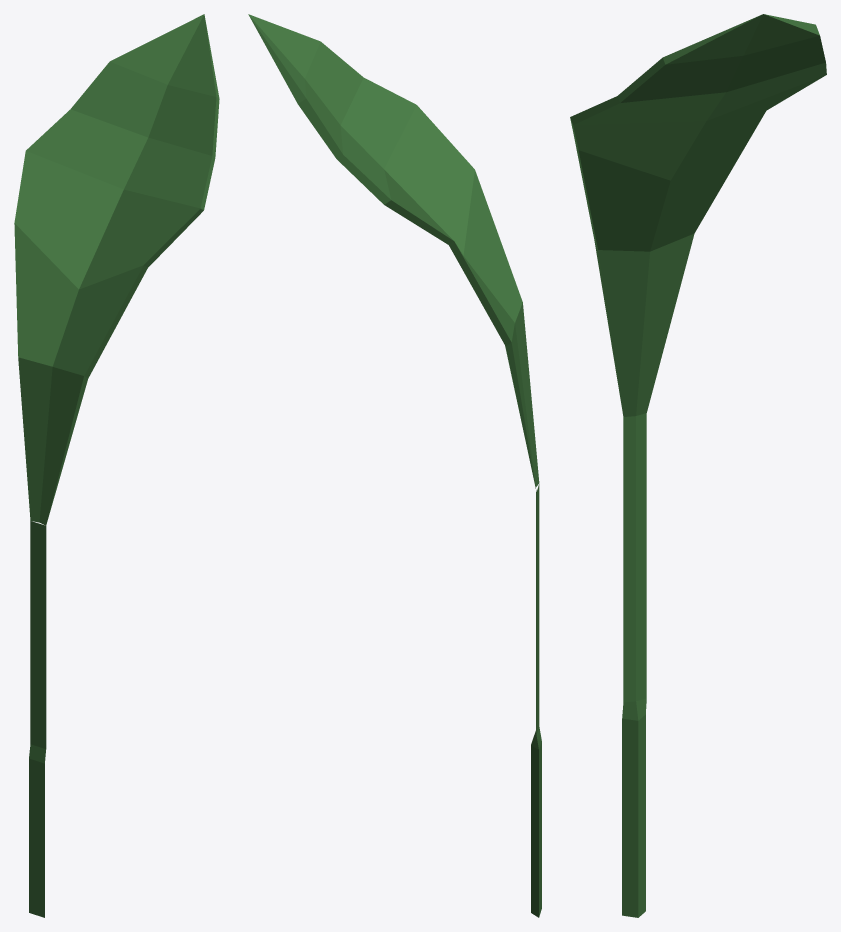
File: weedplant05.gltf
The picture shows the model from 3 angles, left to right: view 1: azimuth 30°, elevation 25°; view 2: azimuth 150°, elevation 25°; view 3: azimuth 270°, elevation 25°; orthographic projection. The views are drawn at different scales.
Visible parts, largest first — view 1: Plane; view 2: Plane; view 3: Plane.
Part boxes in pixels (x1,y1,x2,y2): Plane: (14, 14, 219, 917); Plane: (248, 14, 541, 917); Plane: (570, 14, 826, 917).
Size of the model in its own units: 0.2996 by 1.05 by 0.2357.
1 material, 1 textured.
